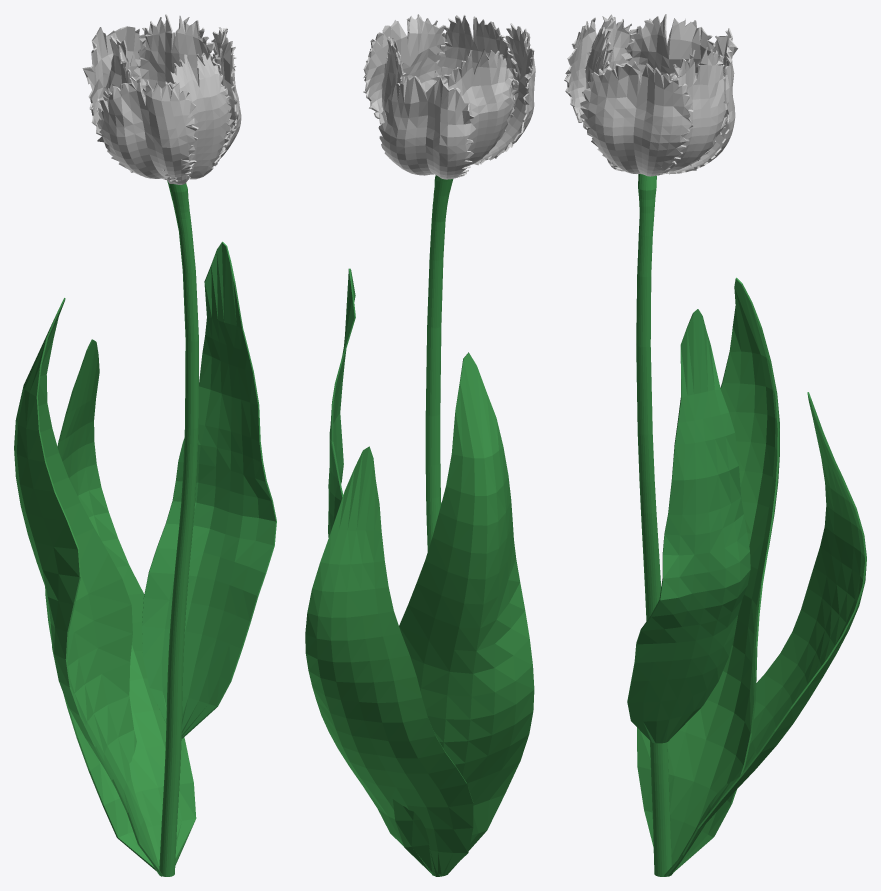
File: tulipe.blanche.fbx
The picture shows the model from 3 angles, left to right: view 1: azimuth 30°, elevation 25°; view 2: azimuth 150°, elevation 25°; view 3: azimuth 270°, elevation 25°; orthographic projection.
Visible parts, largest first — view 1: Flaming_P0, Flaming_P1, Flaming_Pa, Flaming_10, Flaming_P9, Flaming_P4, Flaming_P6, Flaming_P7, Flaming_P5, Flaming_P8; view 2: Flaming_P1, Flaming_Pa, Flaming_P7, Flaming_10, Flaming_P8, Flaming_P5, Flaming_P4, Flaming_P9, Flaming_P0, Flaming_P6; view 3: Flaming_P0, Flaming_P1, Flaming_Pa, Flaming_P5, Flaming_10, Flaming_P6, Flaming_P8, Flaming_P9, Flaming_P7, Flaming_P4.
Part boxes in pixels (x1,y1,x2,y2): Flaming_P0: (142,241,276,738); Flaming_P1: (14,298,162,876); Flaming_Pa: (45,339,196,870); Flaming_10: (159,180,198,876); Flaming_P9: (96,76,198,179); Flaming_P4: (162,52,234,184); Flaming_P6: (132,14,222,101); Flaming_P7: (82,26,146,135); Flaming_P5: (211,27,241,164); Flaming_P8: (106,35,165,179); Flaming_P1: (392,352,534,876); Flaming_Pa: (305,446,473,875); Flaming_P7: (378,75,475,179); Flaming_10: (425,175,453,875); Flaming_P8: (442,49,518,166); Flaming_P5: (363,14,446,124); Flaming_P4: (431,14,518,105); Flaming_P9: (472,23,535,165); Flaming_P0: (328,268,355,537); Flaming_P6: (381,36,405,110); Flaming_P0: (627,309,750,743); Flaming_P1: (637,277,779,876); Flaming_Pa: (664,392,866,876); Flaming_P5: (580,61,693,176); Flaming_10: (636,174,671,876); Flaming_P6: (655,47,727,175); Flaming_P8: (620,14,721,82); Flaming_P9: (564,14,636,129); Flaming_P7: (666,28,737,174); Flaming_P4: (584,27,624,171).
Size of the model in its own units: 307 by 1159 by 379.
